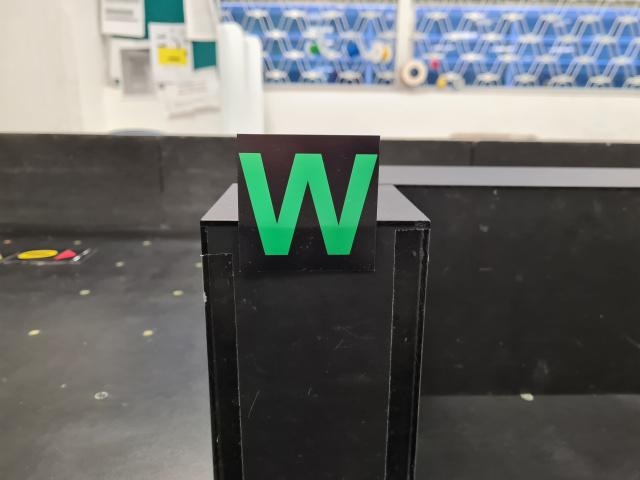w: (236, 134, 379, 276)
